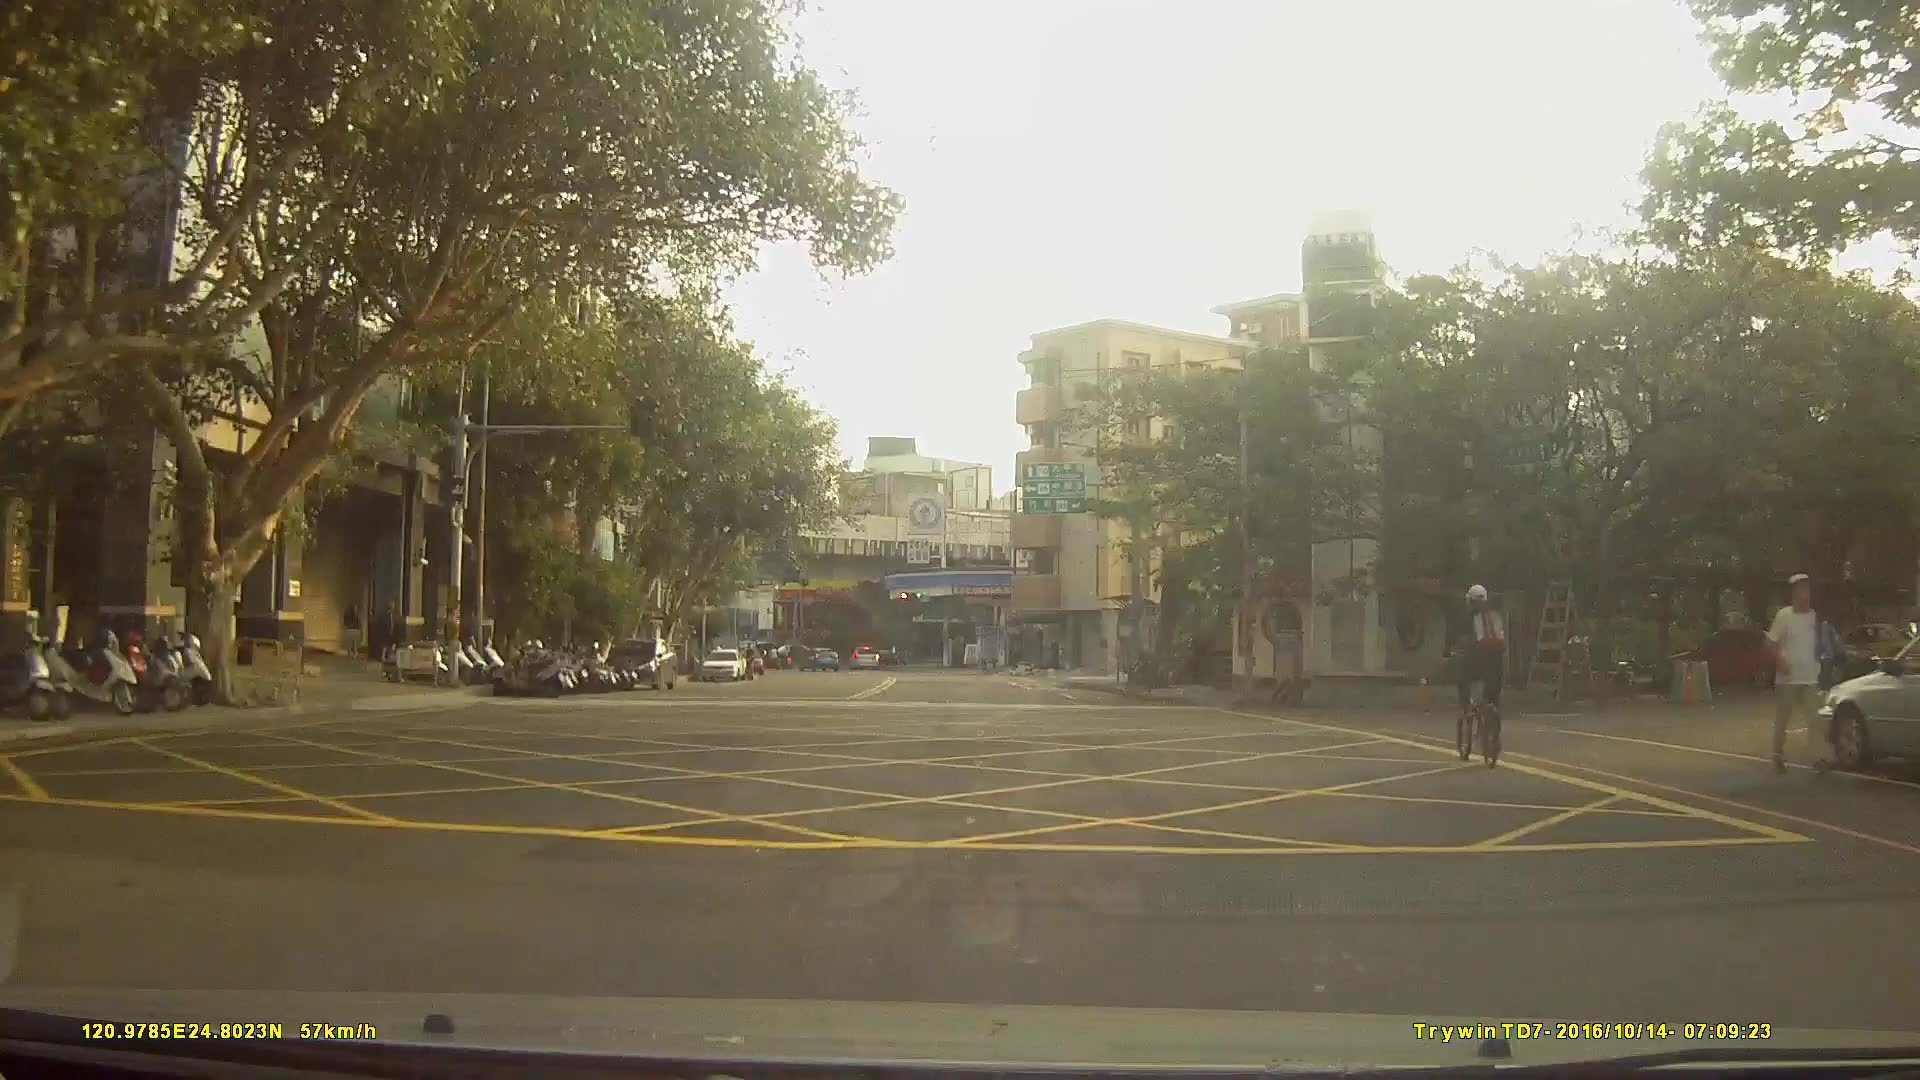pedestrian: (1755, 571, 1841, 785), (342, 600, 365, 663)
rider: (1442, 580, 1505, 770)
vehicle: (1818, 641, 1920, 778), (1668, 621, 1800, 692), (605, 637, 676, 692), (697, 648, 743, 684), (798, 645, 838, 671), (848, 642, 881, 669)
